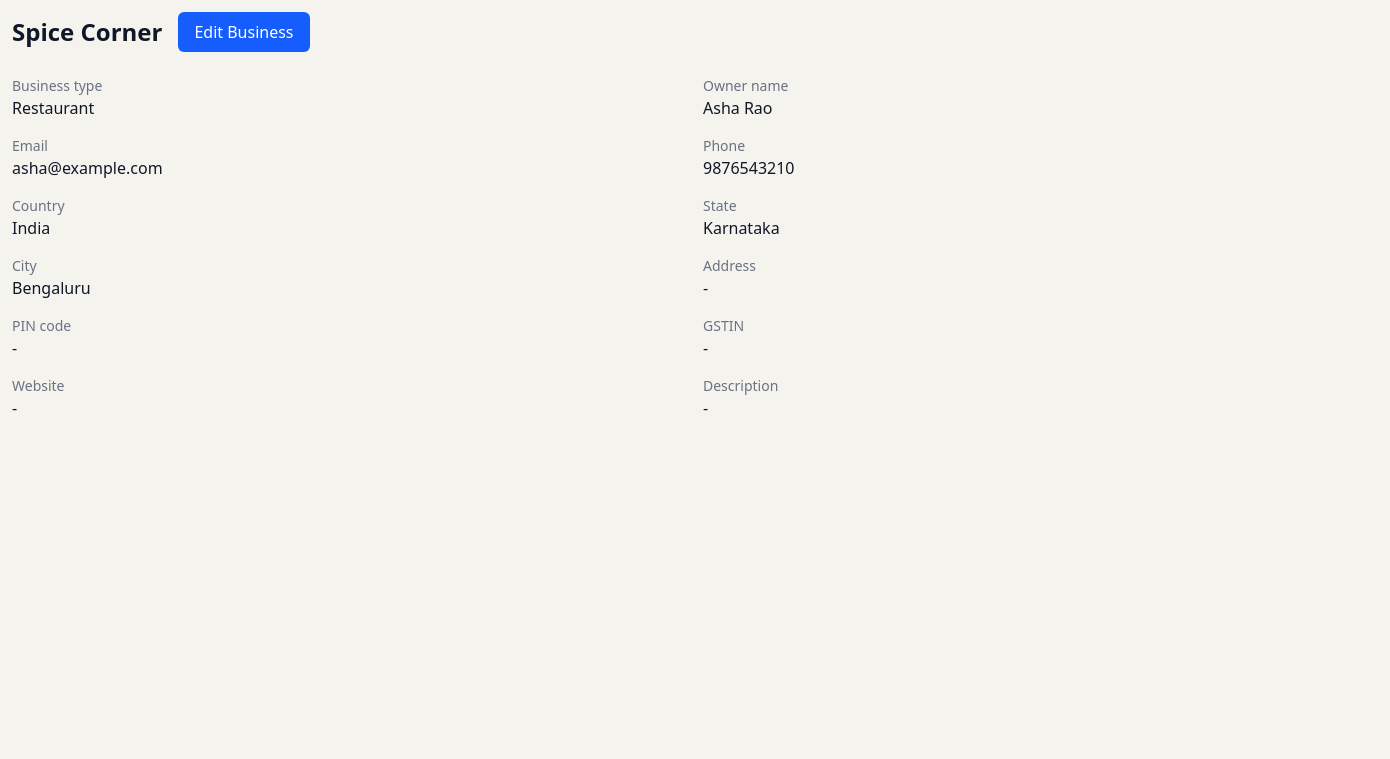
Test: BusinessProfile › opens the edit form when Edit Business is clicked
The image size is (1390, 759).
Click the button "Edit Business". click: (244, 32)
box: [178,12,310,52]
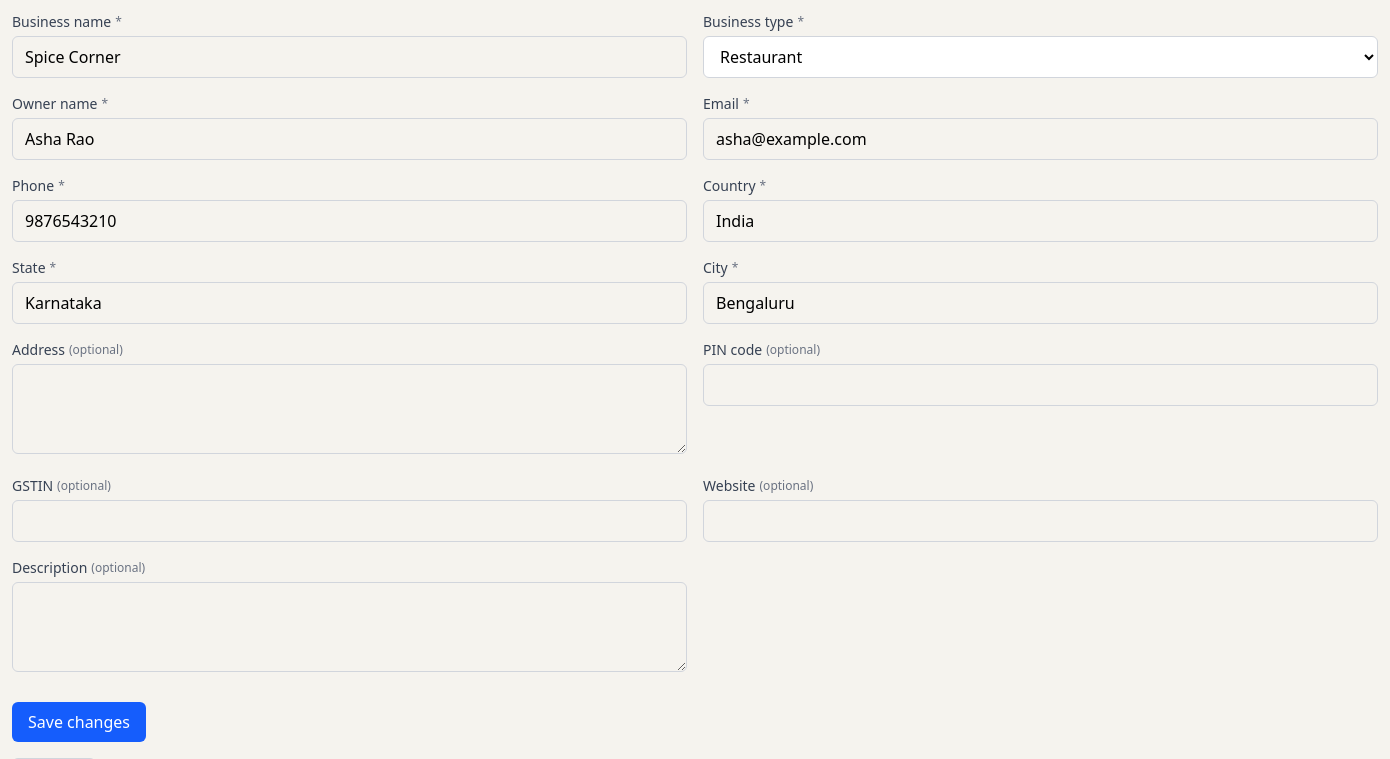
expect the field labelled "Business name" is shown: met, box [12,36,687,78]
